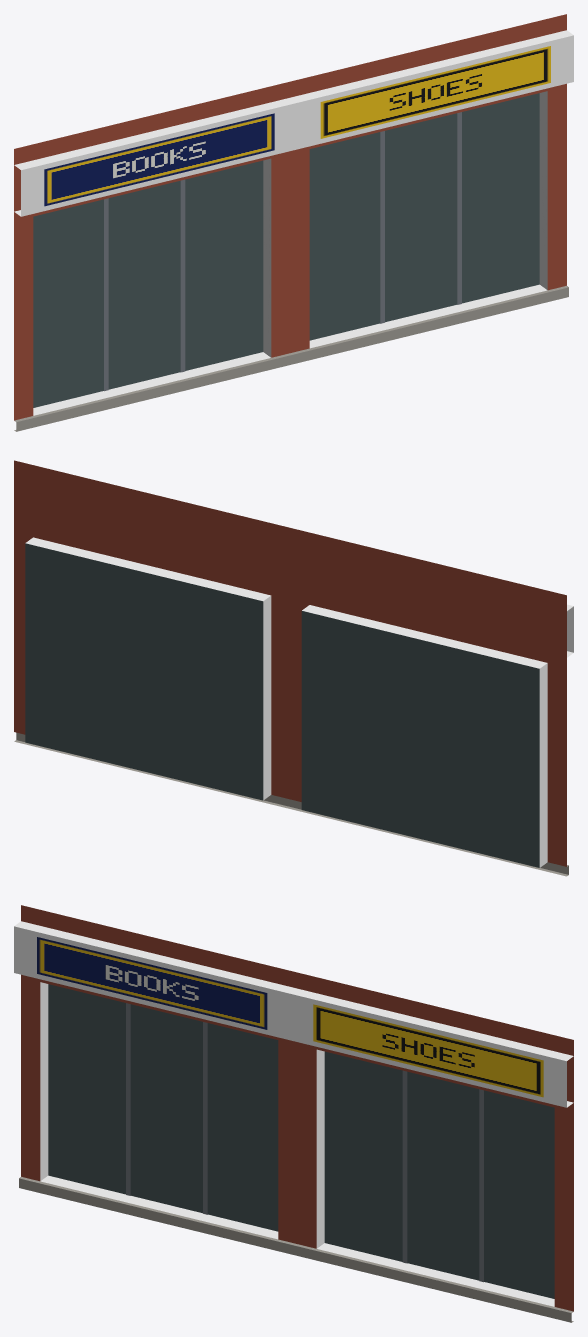
The picture shows the model from 3 angles, top to bottom: view 1: azimuth 30°, elevation 25°; view 2: azimuth 150°, elevation 25°; view 3: azimuth 330°, elevation 25°; orthographic projection.
Parts seen in each view (by area): view 1: a2009/600/base-w4; view 2: a2009/600/base-w4; view 3: a2009/600/base-w4.
Part boxes in pixels (box(x1,y1,x2,y2)): a2009/600/base-w4: box(14, 14, 573, 431); a2009/600/base-w4: box(14, 460, 573, 876); a2009/600/base-w4: box(14, 905, 573, 1322).
Bounding box in the file's own units: 7.2 × 3.5 × 0.342.
